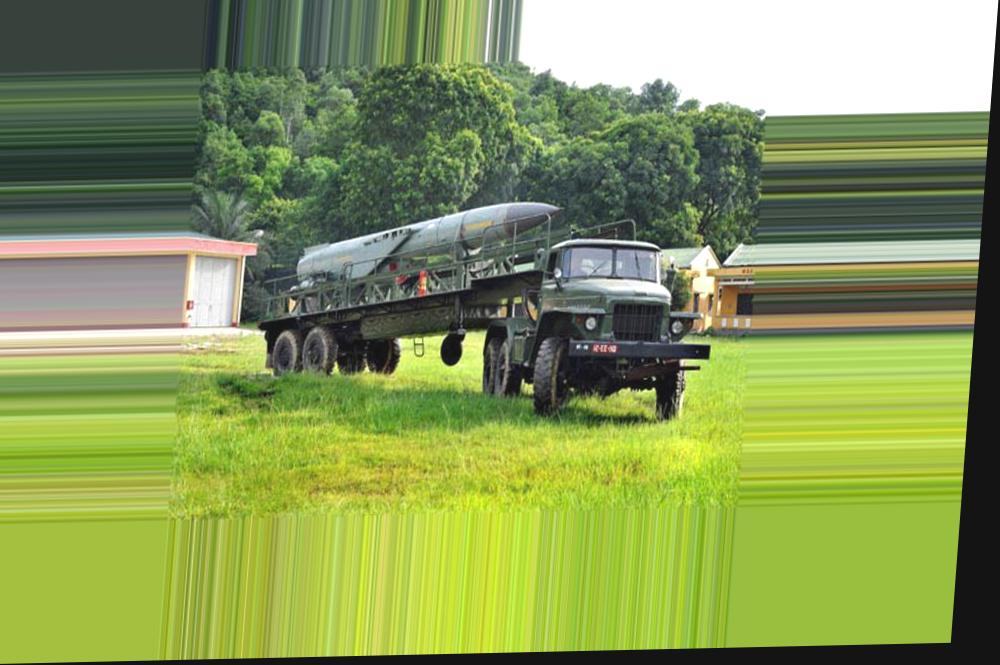License_Plate: (586, 341, 623, 354)
